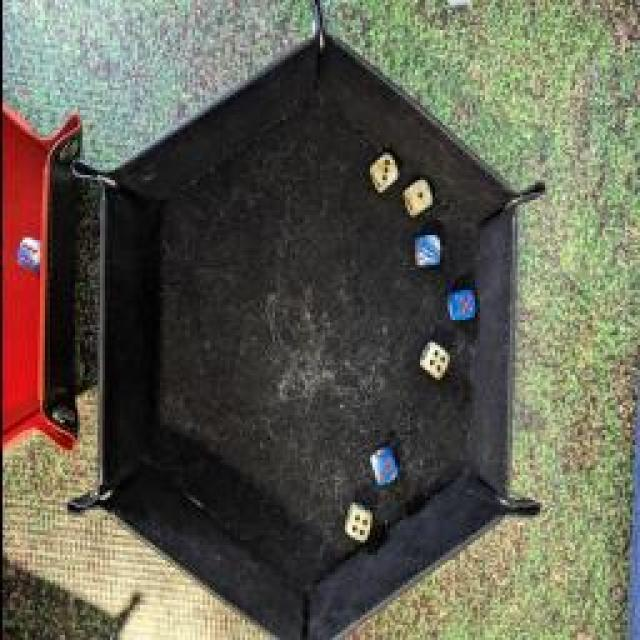dice_1: (401, 176, 431, 216), (409, 232, 441, 266)
dice_3: (369, 148, 399, 194), (368, 448, 402, 488)
dice_4: (415, 340, 450, 385), (342, 502, 372, 546)
dice_5: (444, 282, 478, 328)
dice_6: (12, 232, 48, 276)
